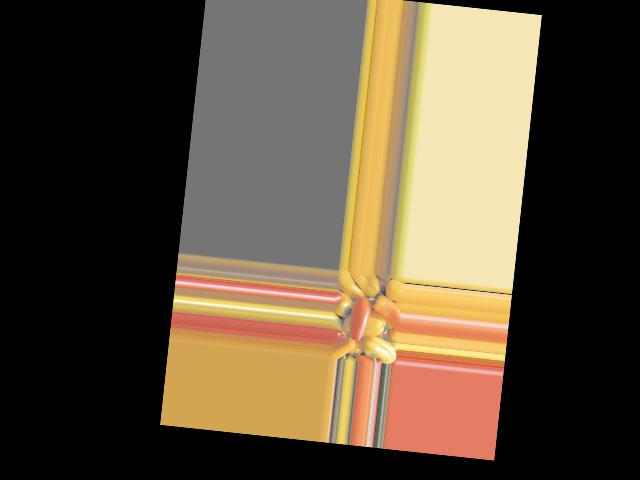bell_pepper: (363, 333, 397, 365)
